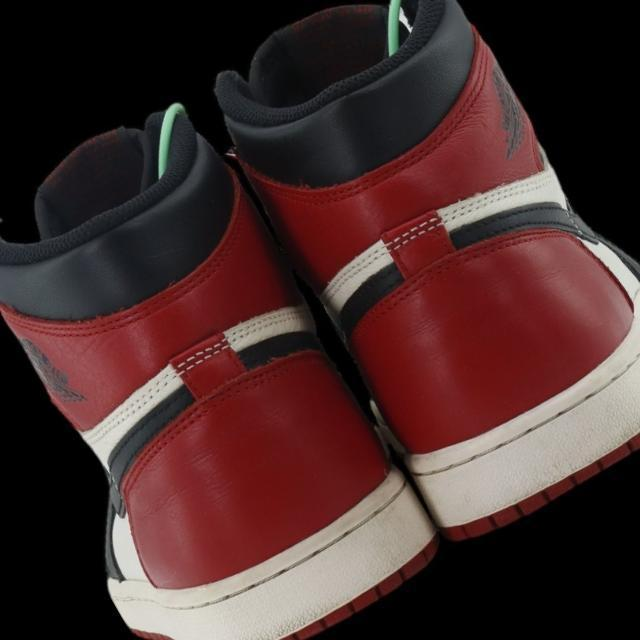nike original jordan 1: (0, 55, 460, 640), (177, 0, 640, 559)
